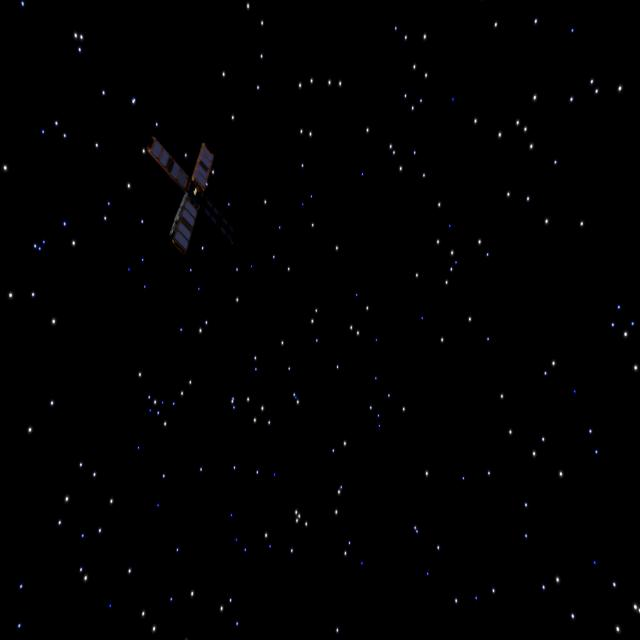medium_debris: (137, 120, 251, 266)
